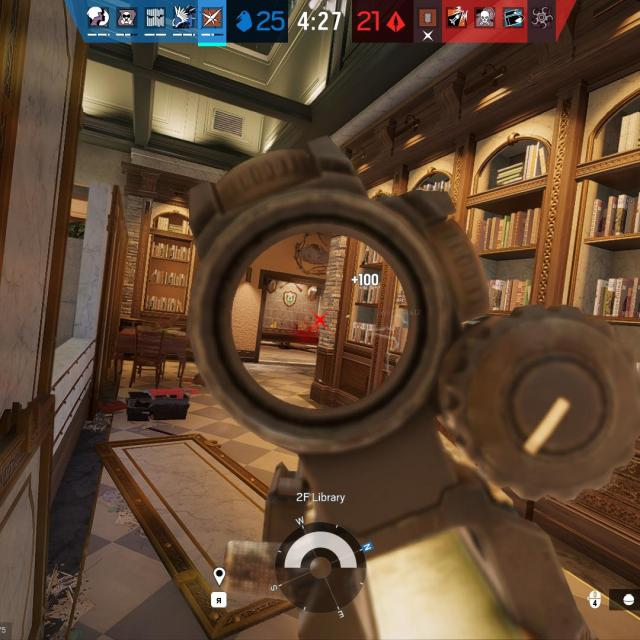Friend_label: (380, 292, 422, 318)
